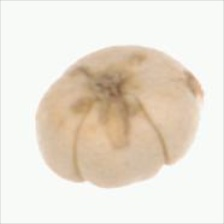L5: (70, 94, 173, 190), (70, 61, 144, 112)
L6: (33, 43, 205, 191)
